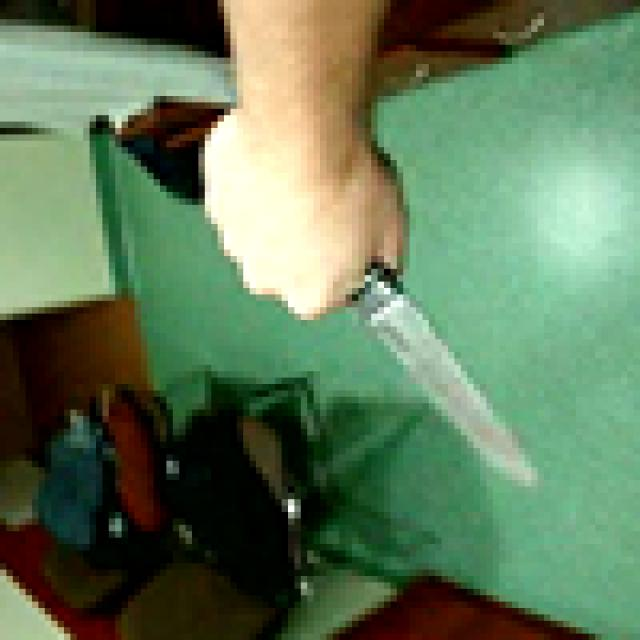Knife: (300, 224, 538, 493)
